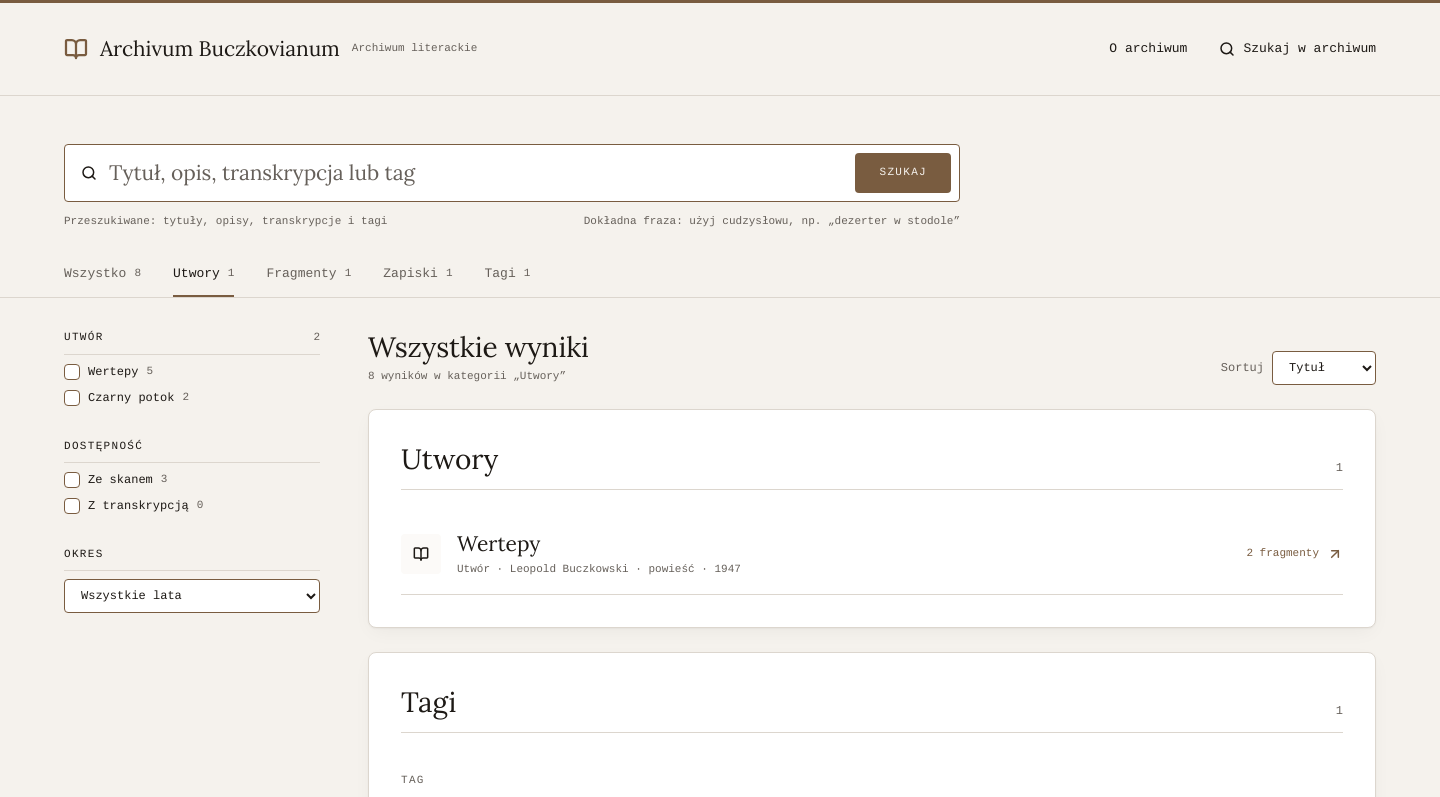
SearchPage tabs and filters › US-RA-16 AC5: without a query, 'Wszystko' lists everything
Expected: the text "8 wyników w kategorii „Utwory”" is shown, [368, 369, 589, 384]
Step 1. Click the link "Wszystko 8" → (102, 273), box [64, 266, 141, 281]
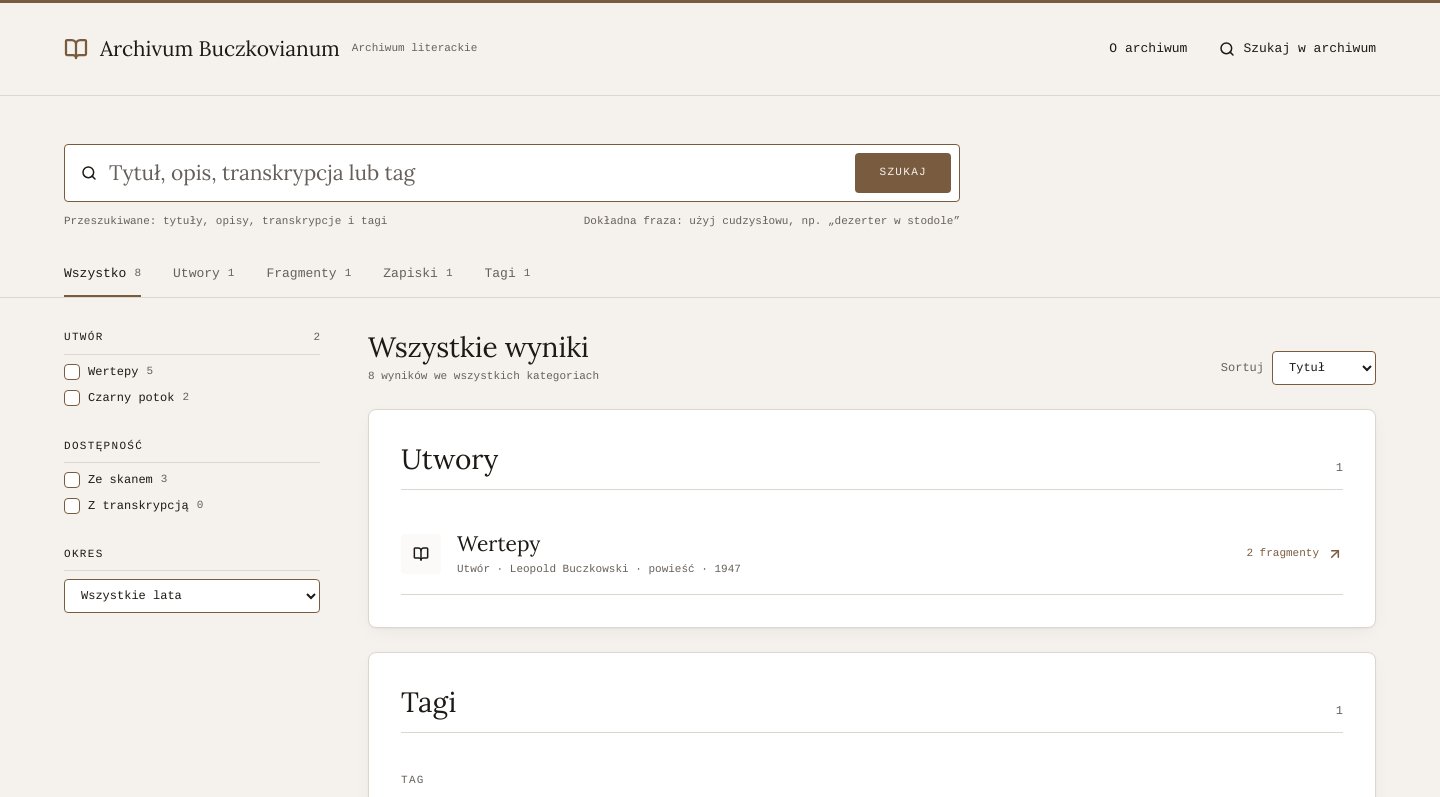
Expected: the text "8 wyników we wszystkich kategoriach" is shown, [368, 369, 599, 384]
